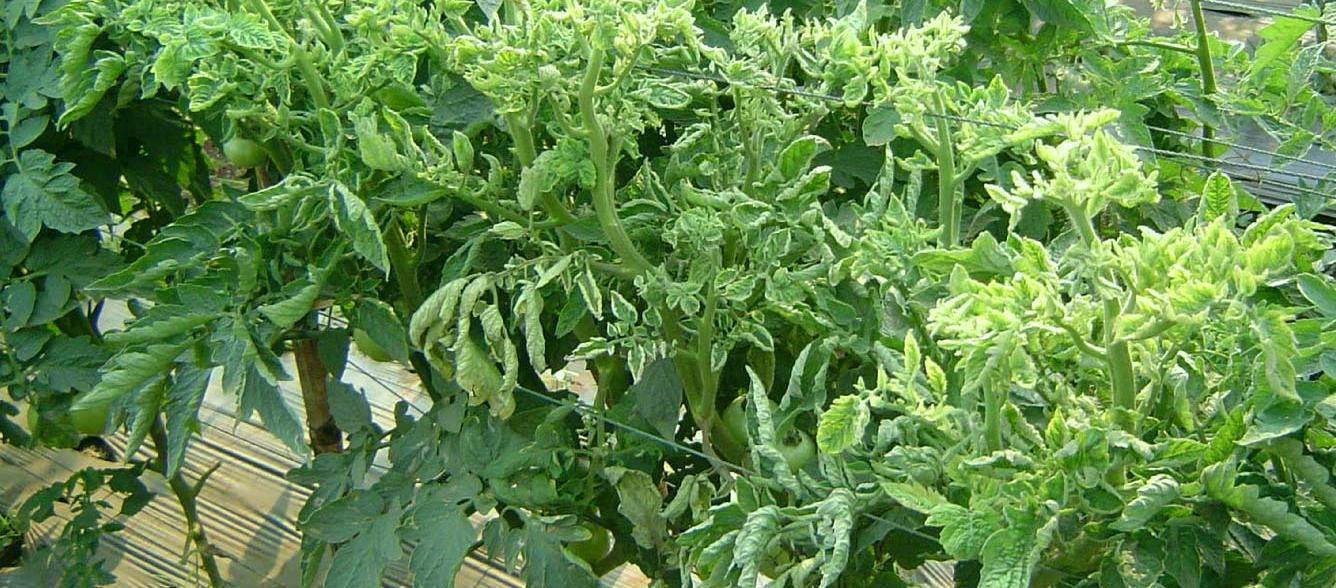Tomato leaf yellow virus: (509, 125, 606, 205), (969, 505, 1062, 588), (326, 184, 392, 276), (814, 390, 868, 451), (962, 286, 1006, 353), (768, 137, 824, 188), (1240, 224, 1286, 283), (177, 76, 253, 111), (1180, 231, 1213, 310), (598, 288, 638, 353), (720, 198, 778, 232), (1031, 277, 1066, 327), (720, 272, 765, 309), (741, 324, 775, 355), (712, 326, 727, 391), (679, 290, 701, 322), (648, 303, 667, 339), (1115, 250, 1137, 277)
